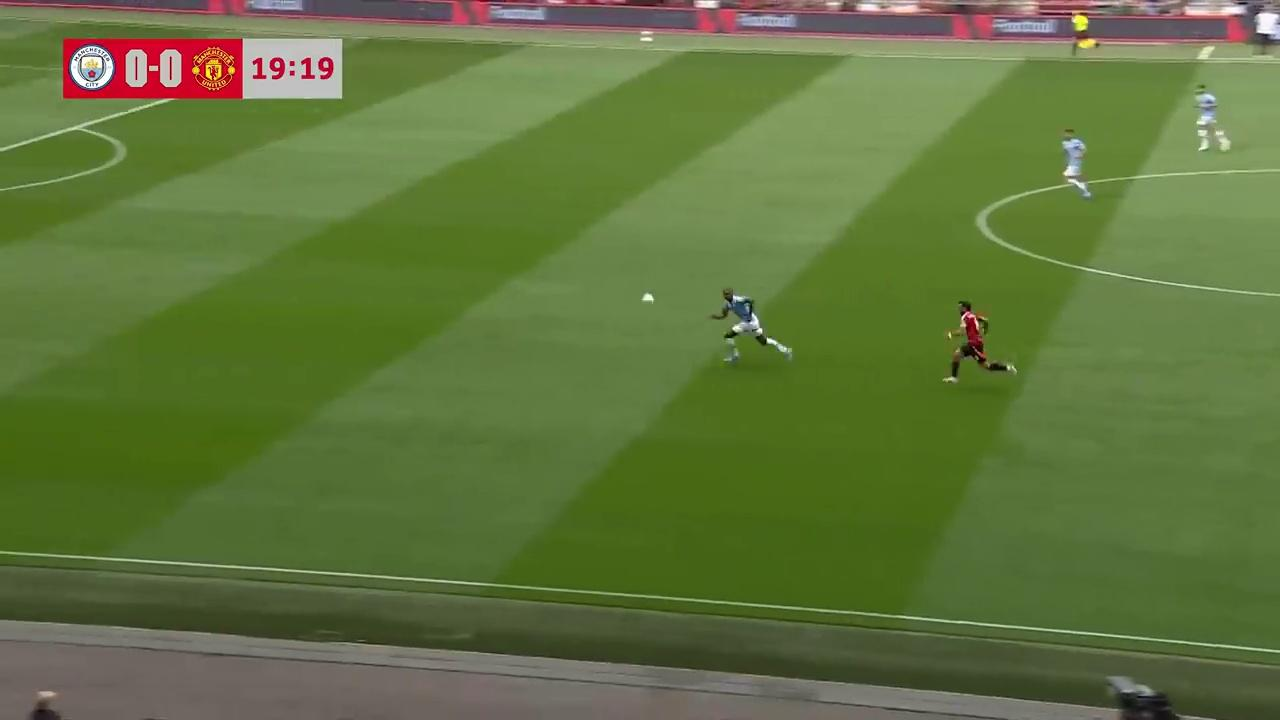ball: (639, 288, 657, 306)
player: (707, 287, 792, 366), (943, 301, 1007, 382), (1193, 87, 1230, 153), (1060, 128, 1091, 199)
referee: (1070, 10, 1097, 57)
